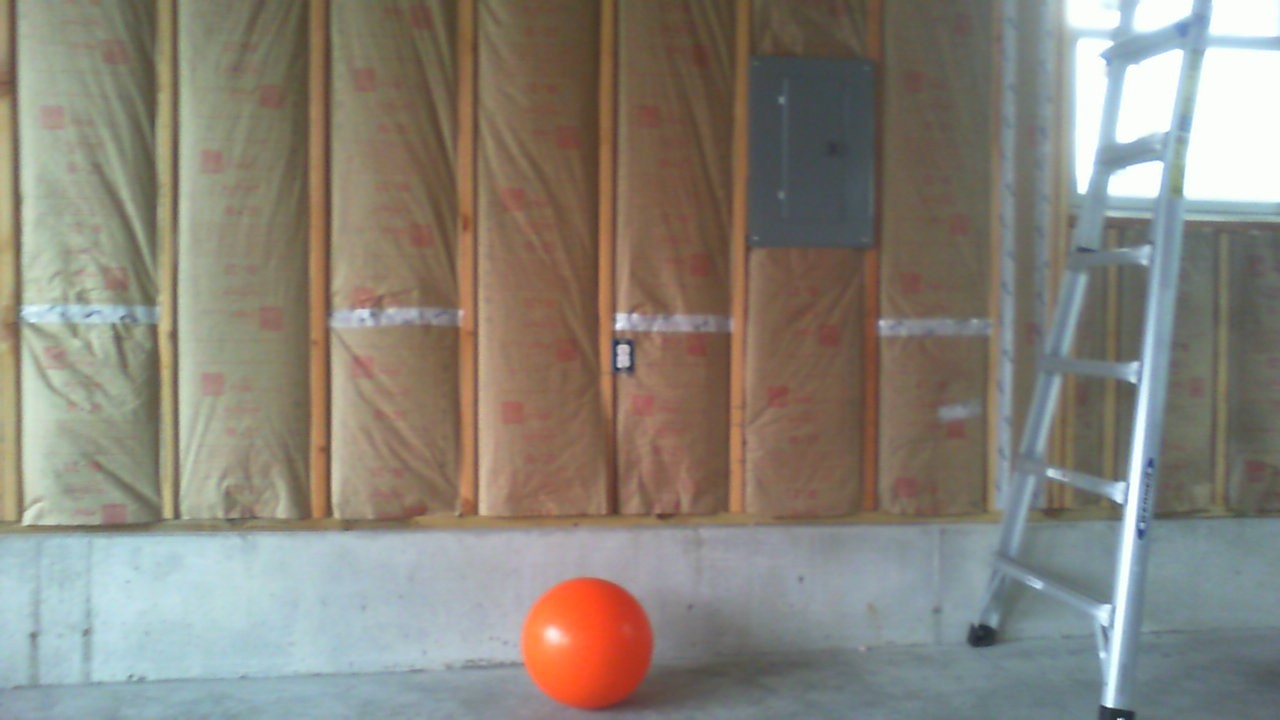Ball: (524, 578, 653, 709)
